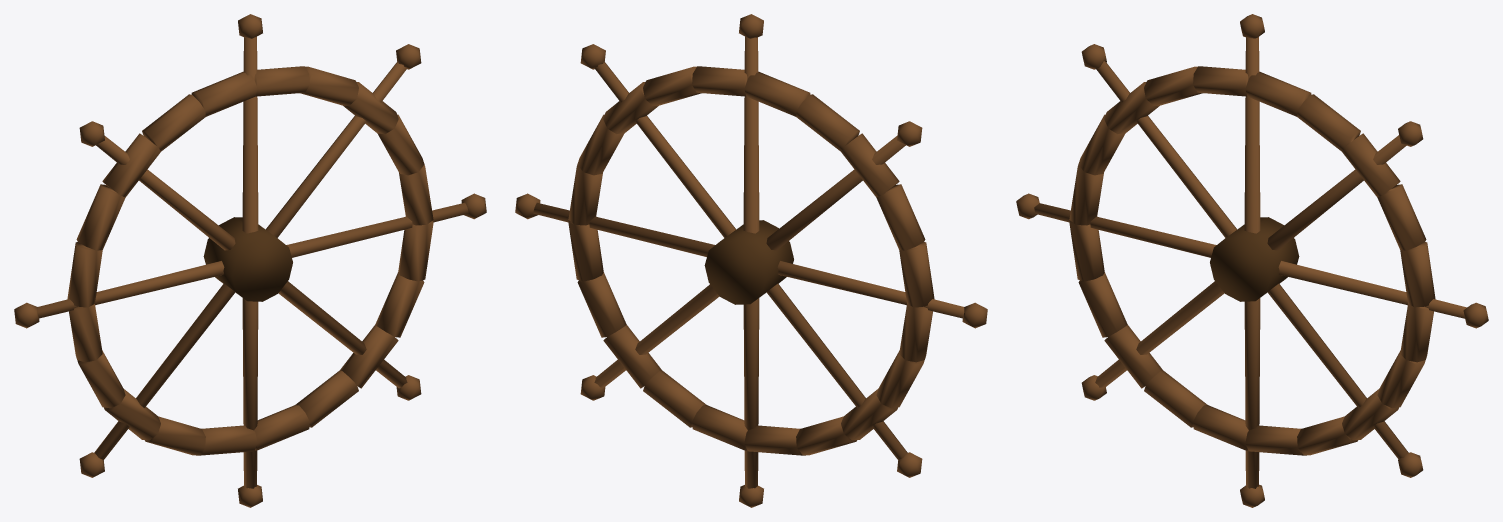
The model's file is ships_wheel_v0.glb.
The picture shows the model from 3 angles, left to right: view 1: azimuth 30°, elevation 25°; view 2: azimuth 150°, elevation 25°; view 3: azimuth 330°, elevation 25°; orthographic projection.
Visible parts, largest first — view 1: ships_wheel_v0; view 2: ships_wheel_v0; view 3: ships_wheel_v0.
Boxes of the visible parts, bbox=[...] form: ships_wheel_v0: bbox=[14, 14, 486, 507]; ships_wheel_v0: bbox=[515, 14, 987, 507]; ships_wheel_v0: bbox=[1016, 14, 1488, 507].
Bounding box in the file's own units: 1.33 × 1.34 × 0.14.
